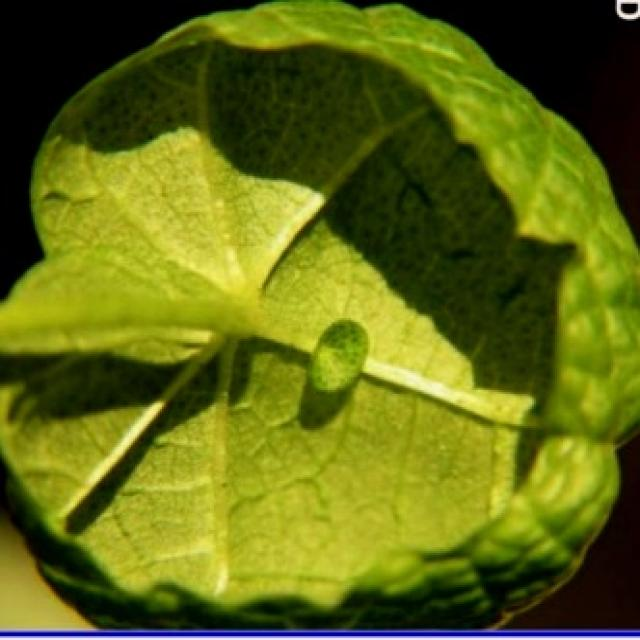Leaf Curl Virus: (22, 48, 563, 628)
